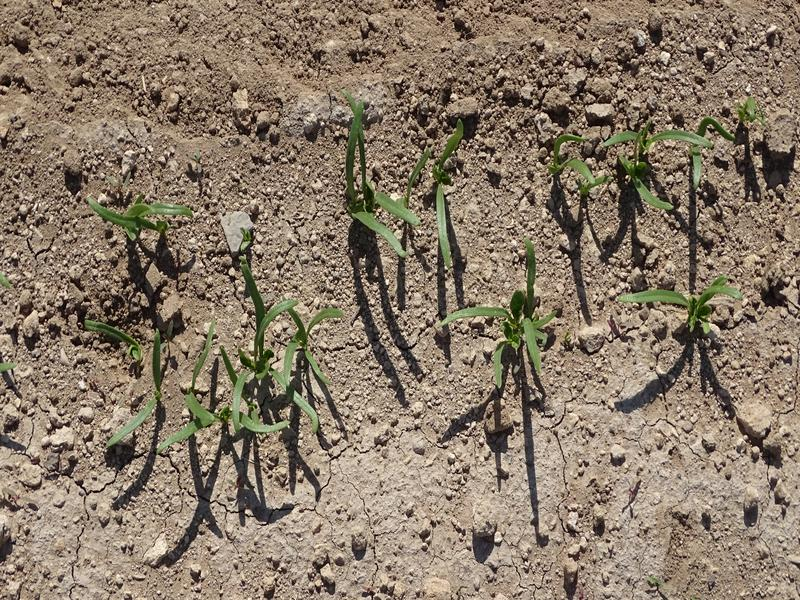Espinaca: (92, 291, 358, 449), (531, 104, 766, 213), (340, 96, 469, 269), (452, 250, 555, 379), (79, 189, 192, 244), (623, 275, 740, 319)
